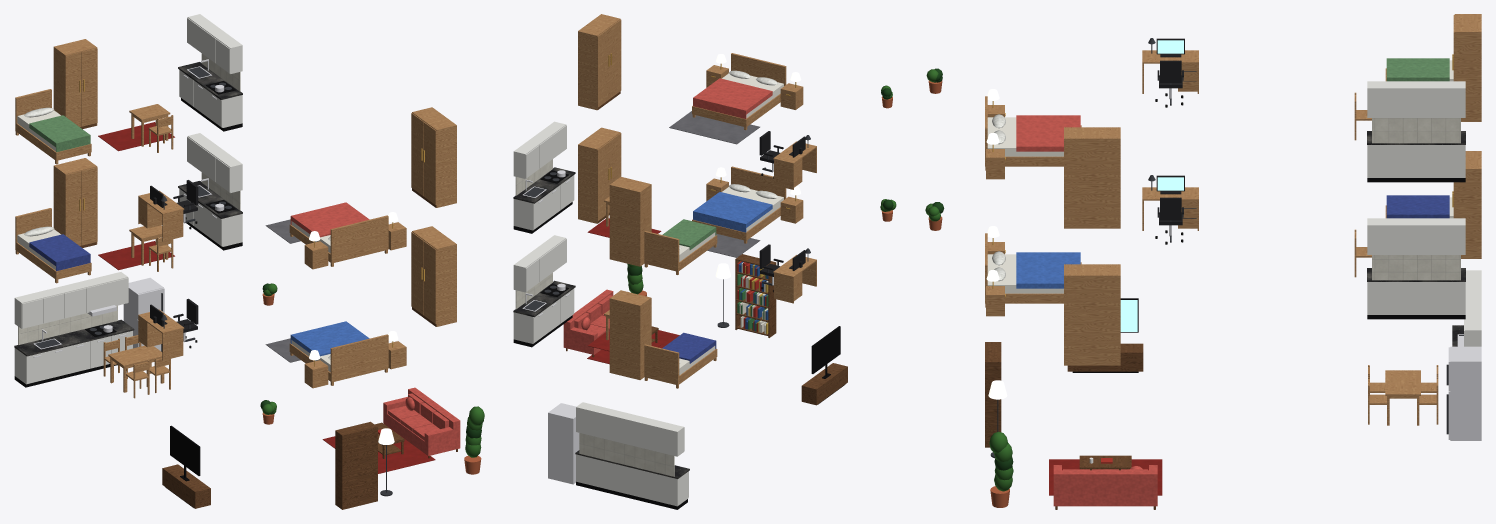
The model's file is i_lisbon_tile_house.gltf.
The picture shows the model from 3 angles, left to right: view 1: azimuth 30°, elevation 25°; view 2: azimuth 150°, elevation 25°; view 3: azimuth 270°, elevation 25°; orthographic projection. The views are drawn at different scales.
Parts seen in each view (by area): view 1: I_lisbon_tile_house; view 2: I_lisbon_tile_house; view 3: I_lisbon_tile_house.
Part boxes in pixels (box(x1,y1,x2,y2)): I_lisbon_tile_house: box(14, 14, 484, 509); I_lisbon_tile_house: box(513, 14, 896, 509); I_lisbon_tile_house: box(925, 14, 1481, 509).
Bounding box in the file's own units: 7.36 × 8.8 × 11.78.
31 materials, 12 textured.
